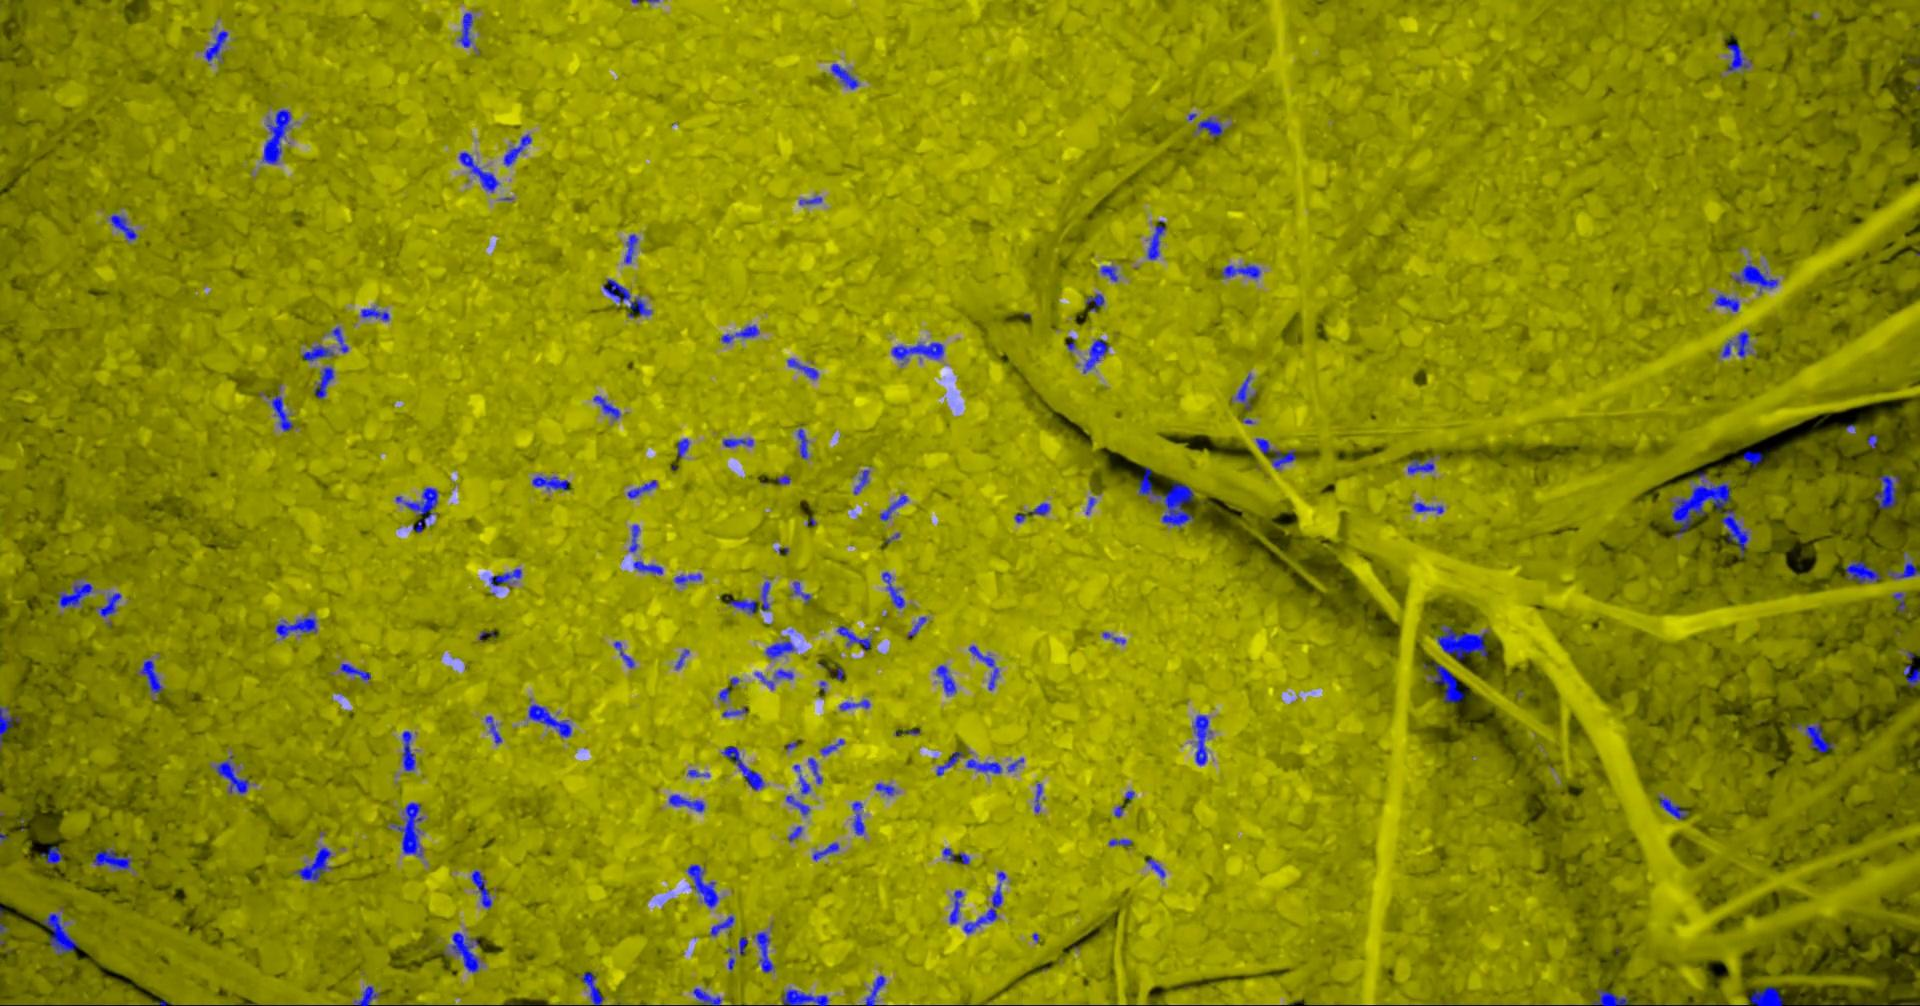ant: (963, 871, 1004, 934), (720, 746, 764, 790), (395, 486, 437, 532), (1436, 624, 1487, 661), (390, 801, 422, 857), (458, 151, 499, 192), (262, 108, 291, 163), (528, 702, 571, 737), (1730, 260, 1778, 291), (42, 913, 77, 954), (1430, 661, 1464, 702), (686, 864, 717, 907), (968, 645, 998, 690), (215, 754, 248, 793), (293, 847, 331, 880), (1255, 438, 1295, 469), (890, 342, 943, 365), (450, 932, 479, 972), (1082, 338, 1109, 373), (503, 133, 531, 166), (836, 625, 871, 650), (1192, 714, 1210, 765), (91, 848, 131, 871), (1844, 559, 1881, 583), (1873, 474, 1898, 508), (1804, 721, 1832, 752), (270, 394, 293, 431), (57, 583, 91, 607), (276, 617, 316, 638), (0, 705, 19, 748), (881, 572, 904, 607), (471, 869, 491, 908), (138, 661, 163, 694), (580, 970, 603, 1005), (781, 988, 828, 1005), (1236, 373, 1256, 412), (1145, 220, 1164, 259), (1721, 332, 1750, 357), (203, 30, 227, 61), (756, 931, 773, 972), (1886, 556, 1919, 578), (109, 213, 136, 240), (830, 64, 858, 89), (879, 494, 907, 520), (720, 325, 758, 343), (1658, 796, 1688, 819), (312, 366, 333, 398), (602, 278, 629, 302), (592, 395, 618, 419), (936, 751, 963, 775), (1726, 43, 1749, 71), (1749, 986, 1782, 1005), (787, 358, 818, 379), (865, 976, 885, 1005), (668, 794, 703, 810), (95, 592, 119, 616), (935, 666, 955, 694), (489, 568, 521, 586), (531, 475, 568, 490), (627, 479, 657, 498), (1220, 264, 1260, 278), (401, 730, 415, 770), (457, 11, 472, 47), (764, 640, 795, 658), (965, 758, 1001, 774), (1591, 989, 1627, 1005), (710, 915, 734, 936), (1197, 116, 1223, 136), (353, 984, 378, 1005), (613, 640, 632, 667), (339, 663, 370, 680), (627, 297, 651, 318), (785, 795, 809, 815), (301, 344, 333, 359), (692, 988, 721, 1005), (949, 889, 963, 923), (811, 842, 838, 860), (485, 716, 502, 743), (942, 847, 969, 864), (791, 580, 810, 603), (1714, 293, 1738, 311), (728, 598, 756, 614), (331, 326, 348, 352), (851, 801, 863, 835), (41, 845, 62, 864), (623, 234, 637, 263), (632, 560, 662, 574), (1407, 457, 1434, 473), (820, 738, 844, 754), (853, 469, 869, 494), (907, 616, 926, 636), (1902, 664, 1919, 687), (1145, 857, 1164, 876), (361, 307, 389, 320), (808, 757, 822, 782), (1084, 293, 1103, 311), (754, 671, 773, 688), (1742, 450, 1763, 466), (1413, 502, 1443, 513), (839, 699, 869, 710), (797, 428, 808, 459), (674, 573, 701, 584), (759, 580, 770, 610), (676, 438, 690, 459), (674, 649, 688, 669), (1100, 265, 1117, 281), (723, 438, 753, 447), (629, 525, 639, 551), (1891, 592, 1905, 611), (1030, 502, 1049, 514), (797, 774, 810, 793), (875, 782, 894, 795), (787, 826, 803, 841), (1034, 782, 1041, 812), (773, 668, 792, 680), (797, 196, 822, 205), (721, 708, 745, 716), (738, 935, 747, 955), (1865, 434, 1877, 448), (717, 687, 729, 701), (1109, 838, 1131, 845)
